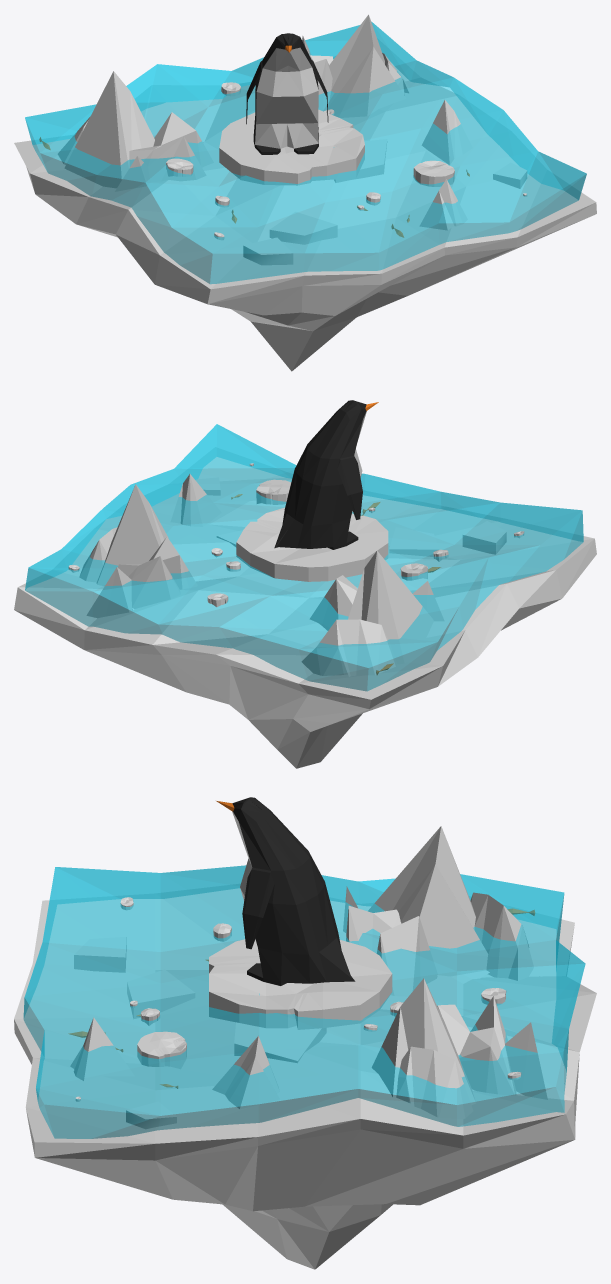
File: Penguin.fbx
3 views of the same model, one above another, from view 1: azimuth 30°, elevation 25°; view 2: azimuth 150°, elevation 25°; view 3: azimuth 270°, elevation 25° (orthographic). The views are drawn at different scales.
Visible parts, largest first — view 1: Snow, Water, Cube_2_2, Iceberg, Iceberg_Back_2, Iceberg_Back, Iceberg_Big, Iceberg_Back_1, Cube_2, Iceberg_Back_3, Iceberg_Big_1, Cube (+3 smaller); view 2: Snow, Water, Cube_2_2, Iceberg, Iceberg_Big, Iceberg_Big_1, Iceberg_Back_2, Iceberg_Back, Iceberg_Back_1, Cube_2, Cube, Iceberg_8; view 3: Snow, Water, Cube_2_2, Iceberg, Iceberg_Big_1, Iceberg_Big, Iceberg_Back_2, Iceberg_Back, Iceberg_Back_1, Cube_1, Iceberg_Back_3, Cube_2 (+3 smaller).
Part boxes in pixels (box(x1,y1,x2,y2)): Snow: box(14, 39, 596, 371); Water: box(25, 21, 586, 284); Cube_2_2: box(246, 33, 328, 154); Iceberg: box(219, 109, 364, 185); Iceberg_Back_2: box(64, 71, 154, 188); Iceberg_Back: box(328, 14, 405, 117); Iceberg_Big: box(58, 112, 213, 191); Iceberg_Back_1: box(422, 100, 472, 164); Cube_2: box(269, 212, 337, 244); Iceberg_Back_3: box(419, 179, 467, 230); Iceberg_Big_1: box(302, 36, 408, 111); Cube: box(243, 237, 293, 265); Snow: box(14, 447, 596, 768); Water: box(25, 424, 583, 691); Cube_2_2: box(274, 400, 378, 549); Iceberg: box(236, 507, 388, 581); Iceberg_Big: box(301, 575, 444, 676); Iceberg_Big_1: box(79, 527, 197, 618); Iceberg_Back_2: box(348, 551, 433, 664); Iceberg_Back: box(96, 484, 169, 585); Iceberg_Back_1: box(170, 474, 221, 526); Cube_2: box(389, 527, 438, 556); Cube: box(462, 521, 506, 554); Iceberg_8: box(256, 479, 291, 504); Snow: box(14, 884, 596, 1269); Water: box(23, 865, 585, 1138); Cube_2_2: box(216, 797, 355, 985); Iceberg: box(209, 939, 392, 1029); Iceberg_Big_1: box(396, 996, 547, 1118); Iceberg_Big: box(343, 886, 540, 996); Iceberg_Back_2: box(368, 826, 489, 983); Iceberg_Back: box(372, 978, 475, 1104); Iceberg_Back_1: box(212, 1036, 279, 1108); Cube_1: box(234, 1022, 326, 1062); Iceberg_Back_3: box(70, 1017, 134, 1080); Cube_2: box(127, 969, 195, 1018).
Bounding box in the file's own units: 435 × 369 × 433.
